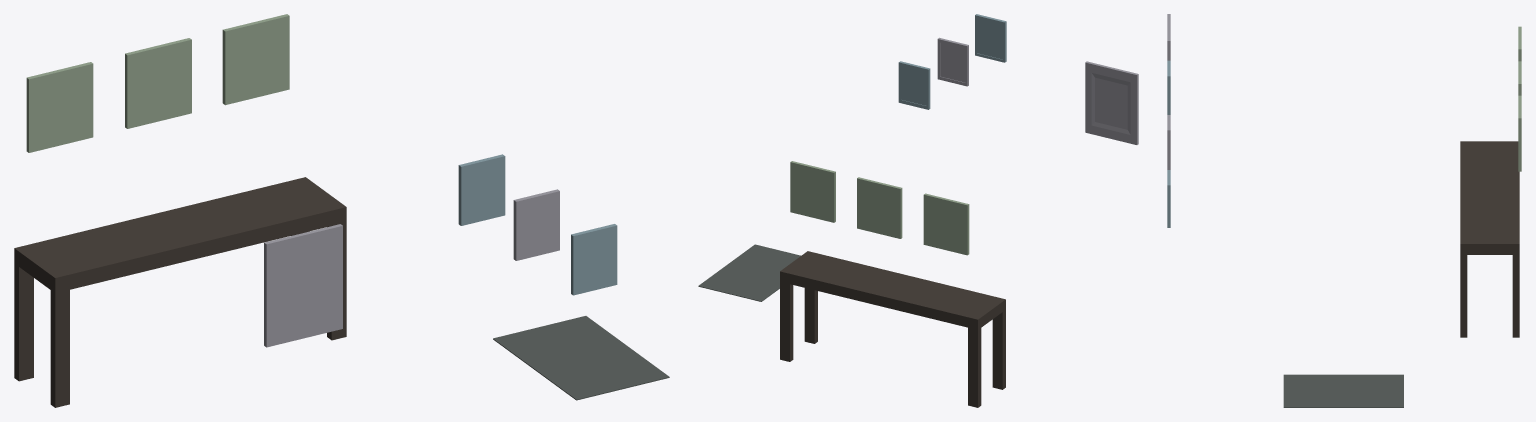
File: entrance_GRP.fbx
3 views of the same model, side by side, from view 1: azimuth 30°, elevation 25°; view 2: azimuth 150°, elevation 25°; view 3: azimuth 270°, elevation 25° (orthographic). The views are drawn at different scales.
Parts seen in each view (by area): view 1: door37, pCube38, mat, pCube41, pCube39, pCube40, pCube37, pCube35, pCube36; view 2: door37, pCube38, mat, pCube39, pCube41, pCube40, pCube35, pCube36, pCube37; view 3: door37, mat.
Part boxes in pixels (x1,y1,x2,y2): door37: [14, 177, 346, 407]; pCube38: [264, 224, 342, 347]; mat: [493, 316, 669, 400]; pCube41: [222, 14, 289, 105]; pCube39: [26, 62, 93, 152]; pCube40: [125, 38, 191, 128]; pCube37: [458, 154, 505, 225]; pCube35: [571, 224, 617, 295]; pCube36: [513, 189, 559, 260]; door37: [780, 251, 1005, 407]; pCube38: [1085, 61, 1138, 144]; mat: [698, 244, 800, 301]; pCube39: [923, 193, 969, 255]; pCube41: [790, 161, 835, 222]; pCube40: [857, 177, 902, 238]; pCube35: [898, 61, 930, 109]; pCube36: [937, 37, 968, 86]; pCube37: [975, 14, 1006, 62]; door37: [1460, 141, 1519, 337]; mat: [1283, 374, 1403, 407].
Size of the model in its own units: 33.75 by 22.34 by 29.24.
